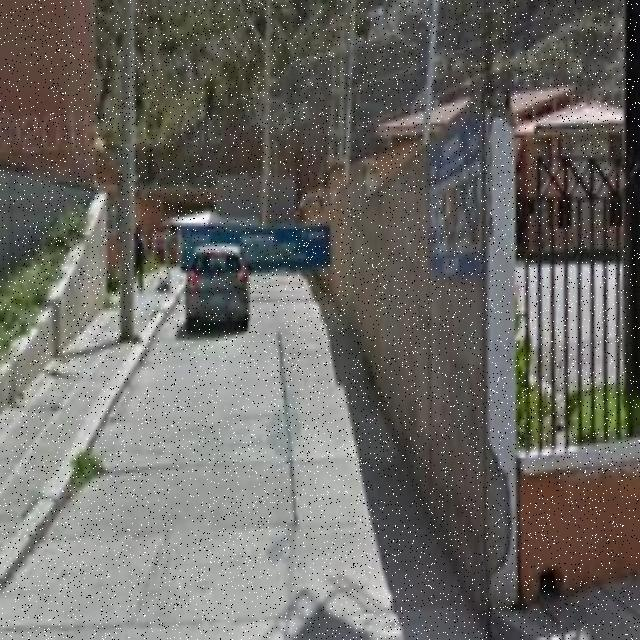cars: (180, 232, 252, 324)
